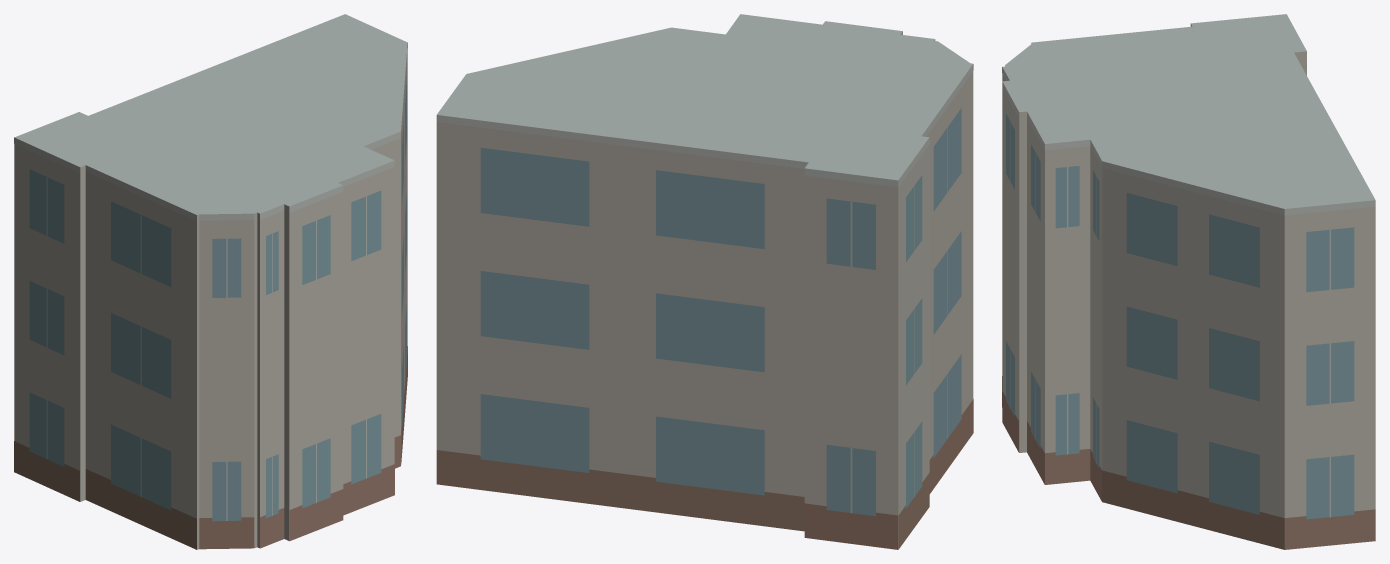
File: survey-upis-32613563.glb
3 renders of one model, left to right at view 1: azimuth 30°, elevation 25°; view 2: azimuth 150°, elevation 25°; view 3: azimuth 270°, elevation 25°, orthographic. The views are drawn at different scales.
Parts seen in each view (by area): view 1: survey-upis-32613563.tmp; view 2: survey-upis-32613563.tmp; view 3: survey-upis-32613563.tmp.
Boxes of the visible parts, x1=… form: survey-upis-32613563.tmp: x1=14, y1=14, x2=407, y2=549; survey-upis-32613563.tmp: x1=436, y1=14, x2=973, y2=549; survey-upis-32613563.tmp: x1=1002, y1=14, x2=1375, y2=549.
Bounding box in the file's own units: 15.65 × 12.75 × 12.67.
